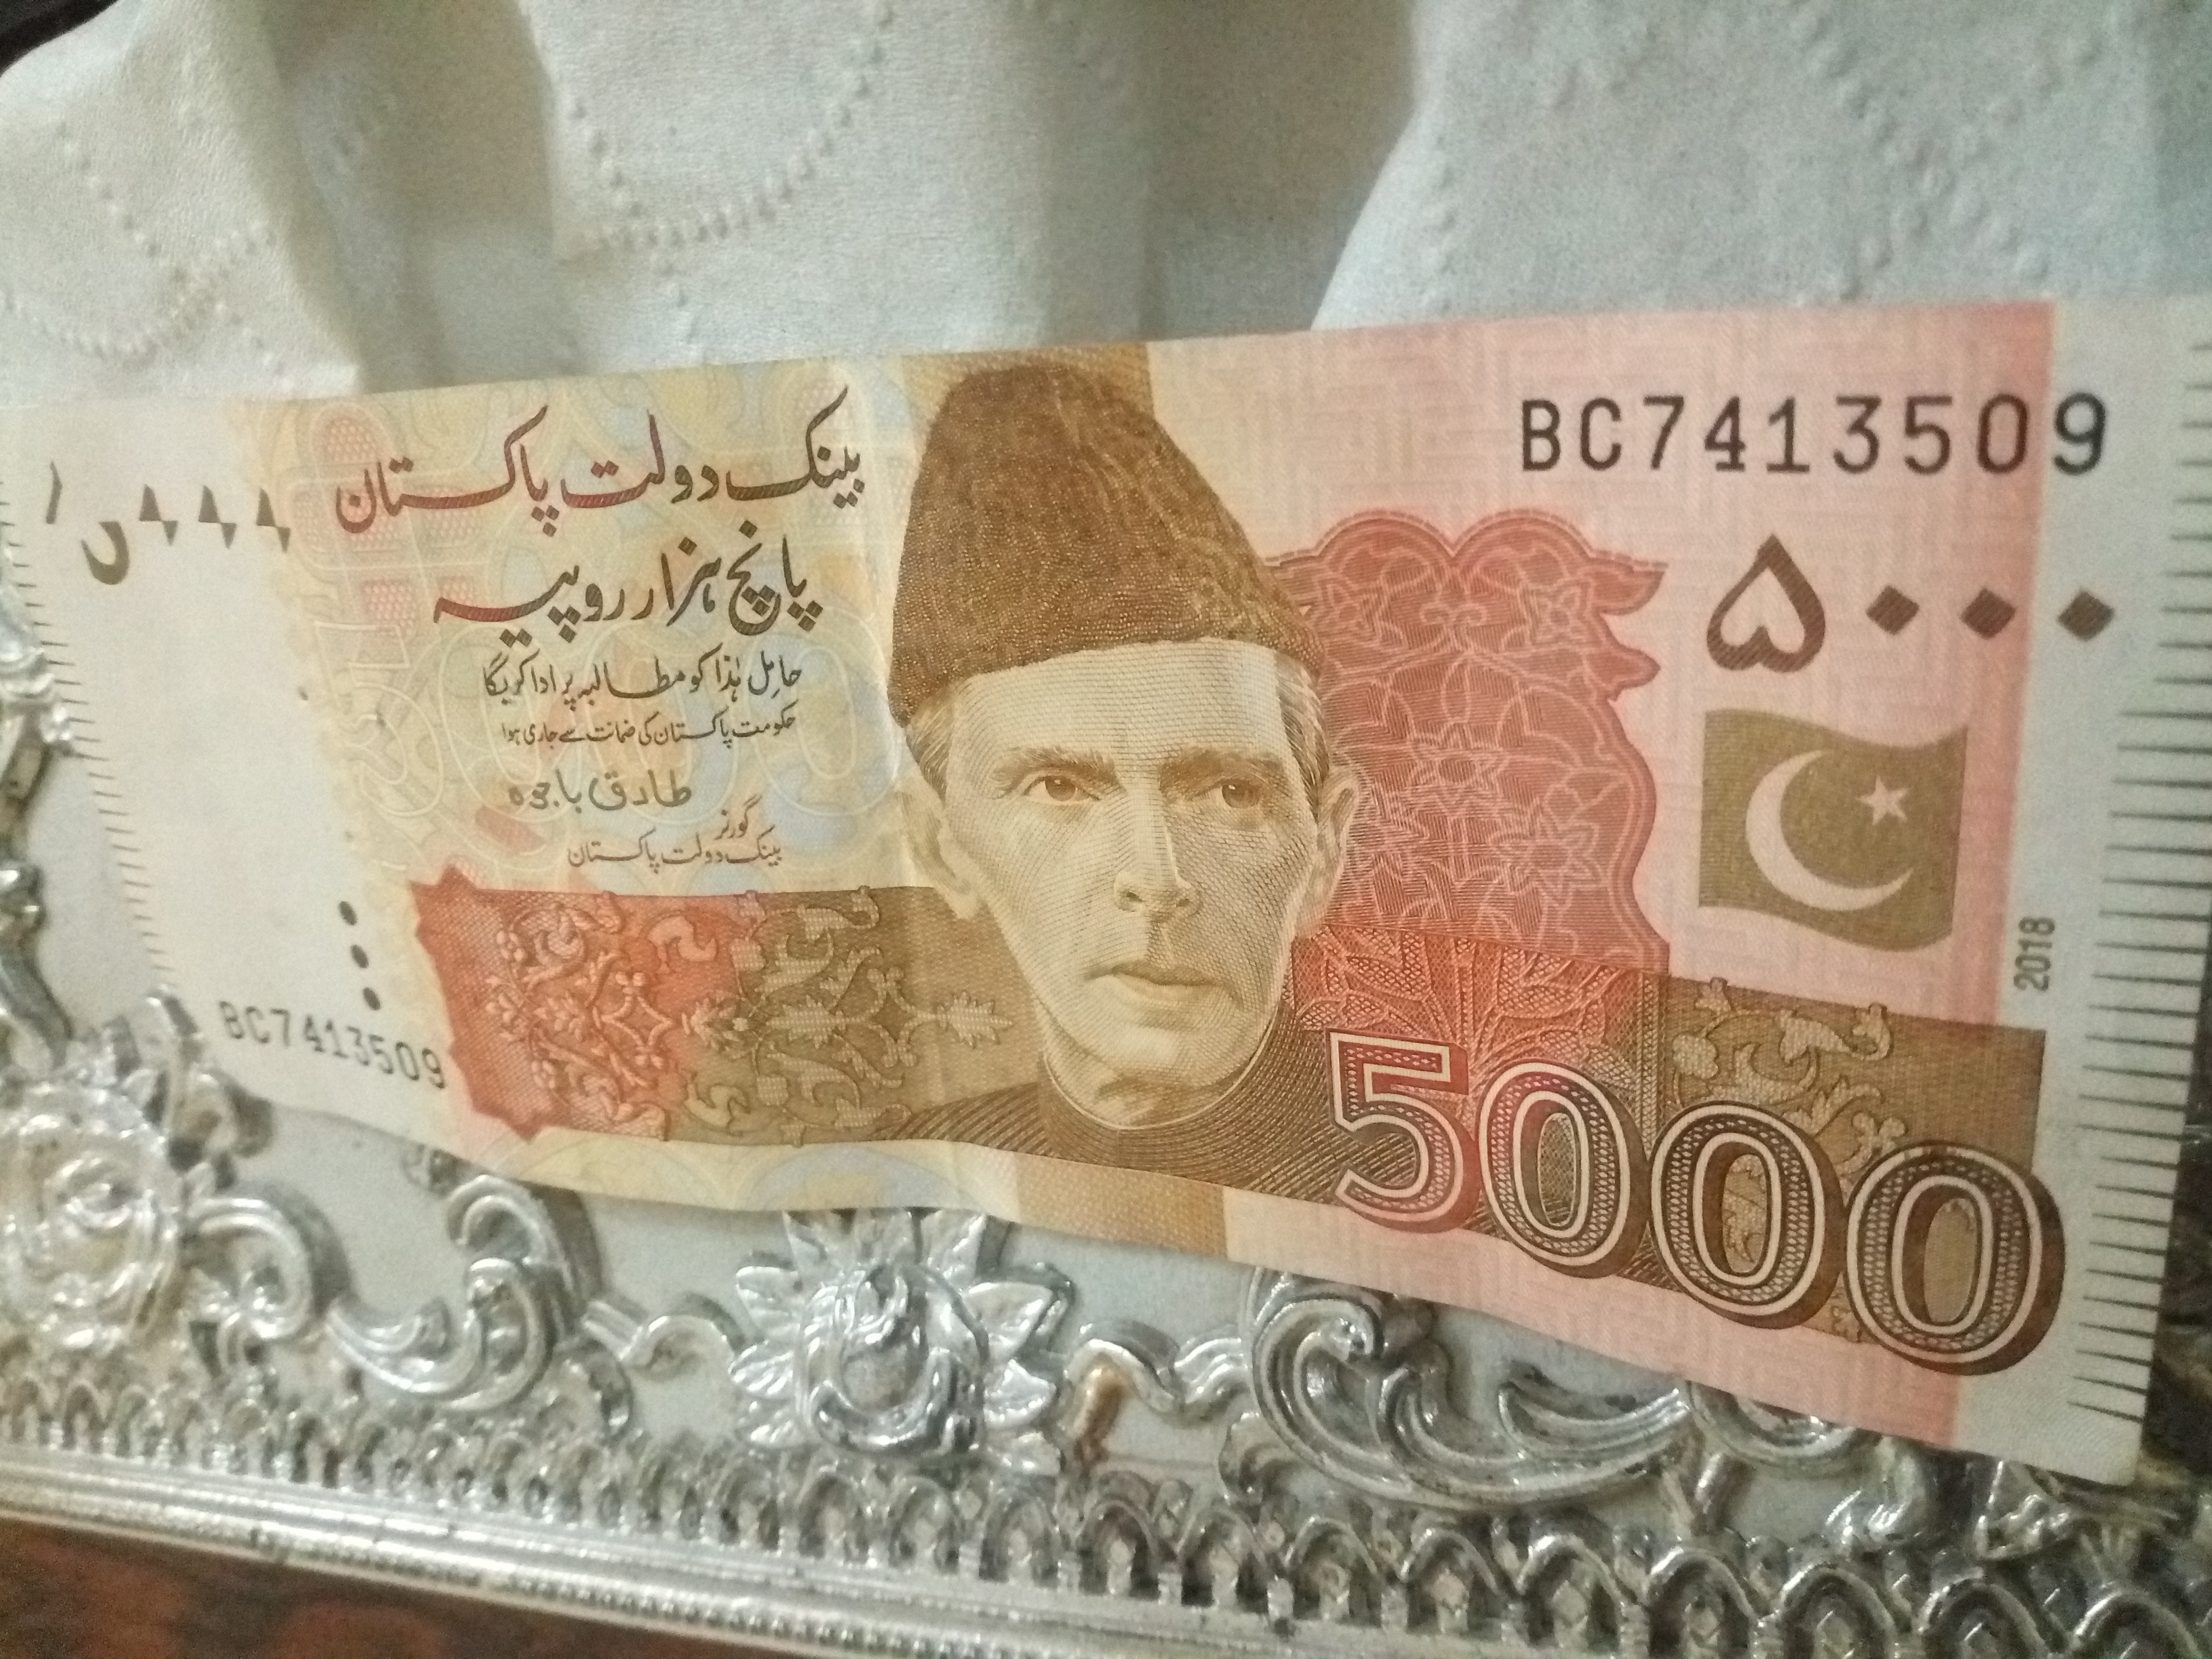5000 rupee: (47, 328, 2186, 1556)
